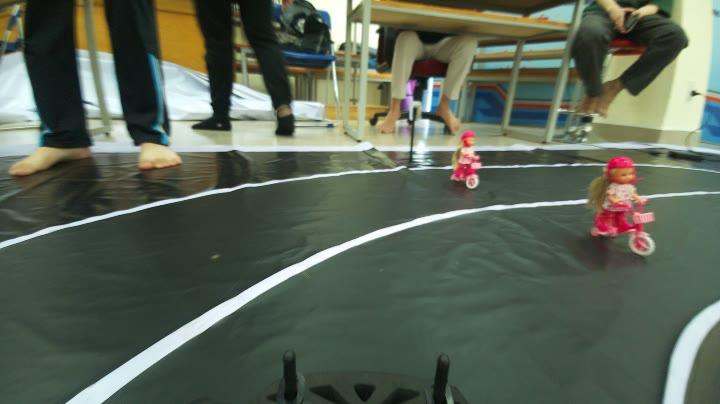pedestrian: (584, 154, 660, 260), (446, 126, 488, 192)
